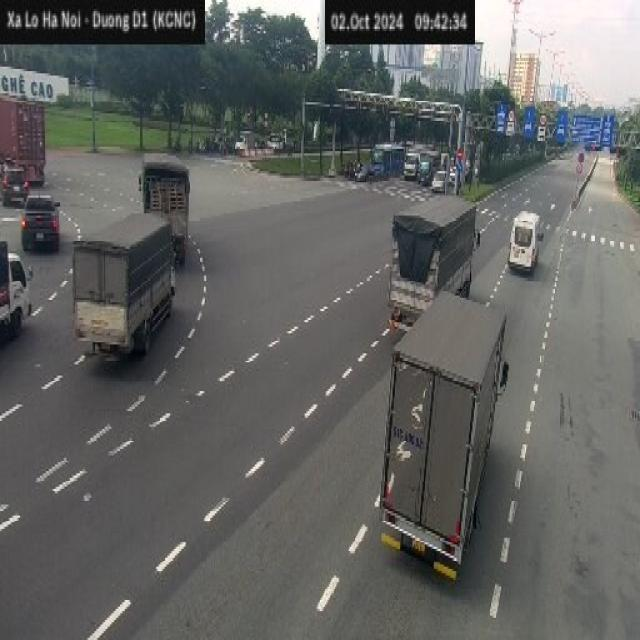truck: (378, 289, 508, 582), (71, 211, 175, 360), (385, 193, 479, 324), (138, 151, 190, 265), (0, 94, 45, 184)
